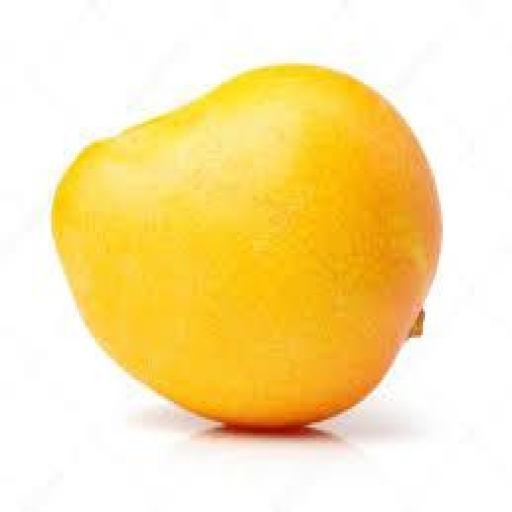mango: (54, 66, 440, 427)
